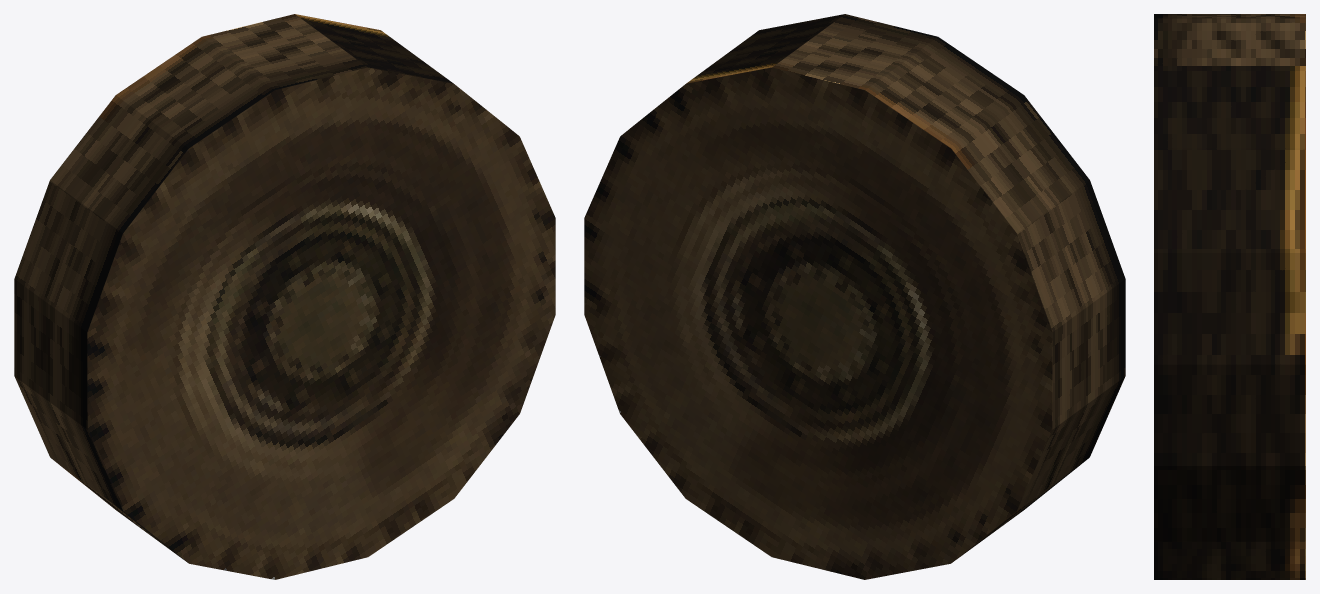
File: wheel.glb
The picture shows the model from 3 angles, left to right: view 1: azimuth 30°, elevation 25°; view 2: azimuth 150°, elevation 25°; view 3: azimuth 270°, elevation 25°; orthographic projection. The views are drawn at different scales.
Parts seen in each view (by area): view 1: Cylinder; view 2: Cylinder; view 3: Cylinder.
Boxes of the visible parts, <box> form: Cylinder: <box>14,14,555,579</box>; Cylinder: <box>584,14,1125,579</box>; Cylinder: <box>1154,14,1305,579</box>.
Bounding box in the file's own units: 0.7285 × 0.7285 × 0.1968.
Materials: 1 (1 with a texture image).
